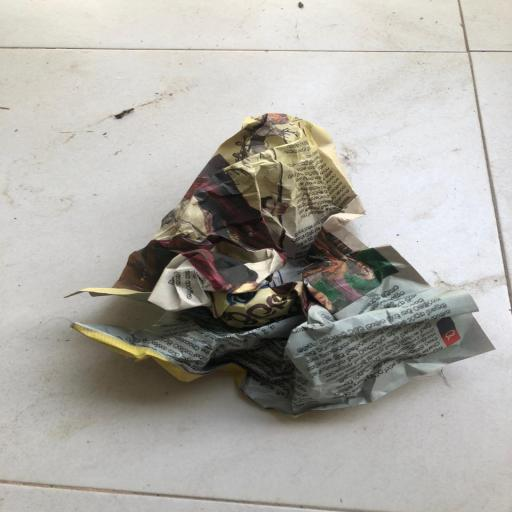waste: (62, 105, 512, 429)
